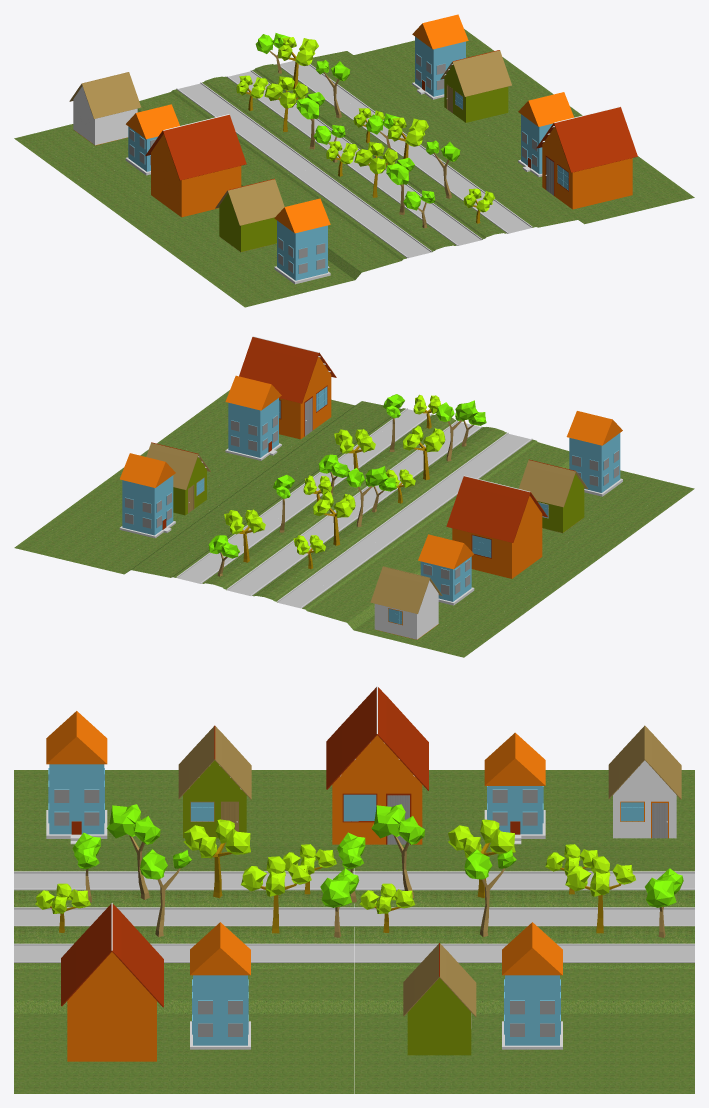
The picture shows the model from 3 angles, top to bottom: view 1: azimuth 30°, elevation 25°; view 2: azimuth 150°, elevation 25°; view 3: azimuth 270°, elevation 25°; orthographic projection. The views are drawn at different scales.
Visible parts, largest first — view 1: G1-CHAO, G1-CASAS, G2-ARVORES; view 2: G1-CHAO, G1-CASAS, G2-ARVORES; view 3: G1-CHAO, G1-CASAS, G2-ARVORES.
Part boxes in pixels (x1,y1,x2,y2): G1-CHAO: [14, 29, 694, 307]; G1-CASAS: [69, 14, 637, 284]; G2-ARVORES: [236, 33, 494, 228]; G1-CHAO: [14, 390, 694, 657]; G1-CASAS: [119, 336, 622, 639]; G2-ARVORES: [208, 394, 486, 576]; G1-CHAO: [14, 770, 694, 1093]; G1-CASAS: [46, 686, 681, 1061]; G2-ARVORES: [35, 804, 683, 937].
Bounding box in the file's own units: 14400 × 2406 × 12800.
